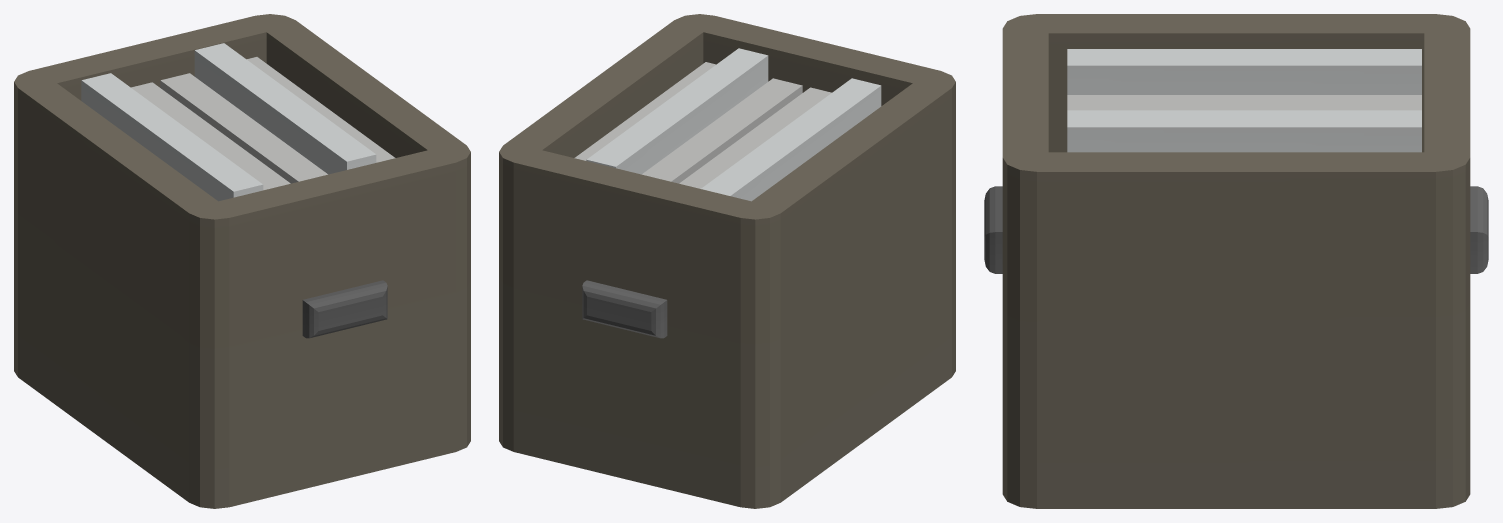
Rendered from Paperholdingbox_v2_001.fbx.
3 renders of one model, left to right at view 1: azimuth 30°, elevation 25°; view 2: azimuth 150°, elevation 25°; view 3: azimuth 270°, elevation 25°, orthographic. The views are drawn at different scales.
Visible parts, largest first — view 1: Paperholdingbox_v2.001; view 2: Paperholdingbox_v2.001; view 3: Paperholdingbox_v2.001.
Part boxes in pixels (box(x1,y1,x2,y2)): Paperholdingbox_v2.001: box(14, 14, 470, 508); Paperholdingbox_v2.001: box(499, 14, 955, 508); Paperholdingbox_v2.001: box(984, 14, 1488, 508).
Size of the model in its own units: 32.84 by 32.75 by 44.34.
